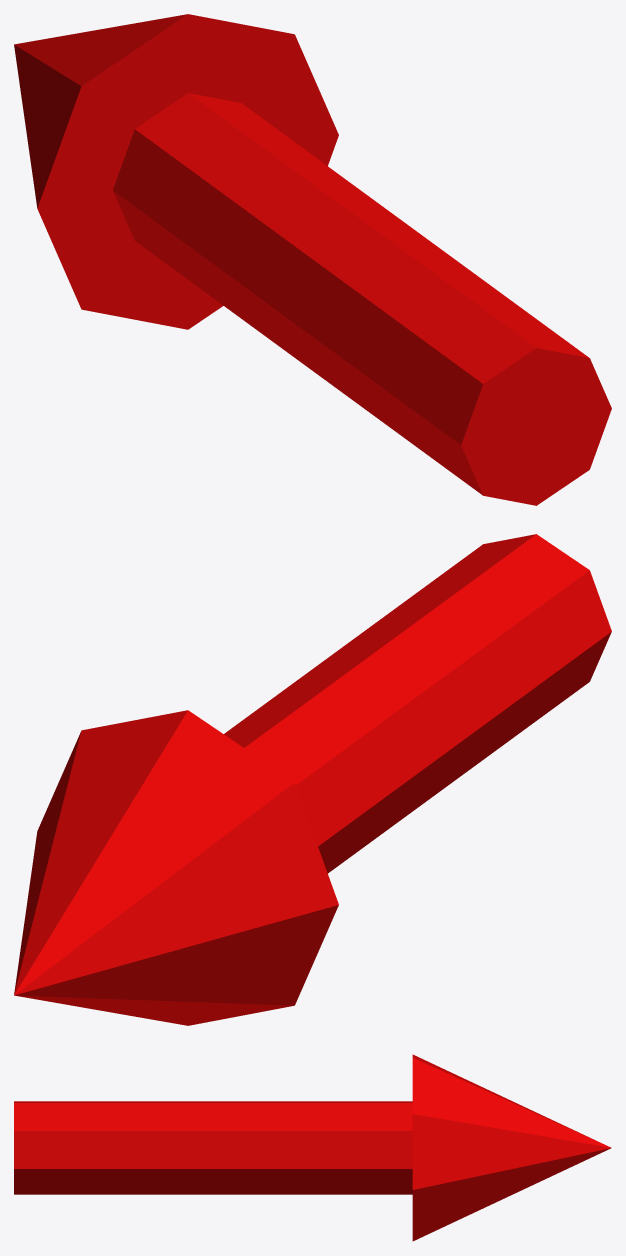
Rendered from Arrow.fbx.
The picture shows the model from 3 angles, top to bottom: view 1: azimuth 30°, elevation 25°; view 2: azimuth 150°, elevation 25°; view 3: azimuth 270°, elevation 25°; orthographic projection. The views are drawn at different scales.
Parts seen in each view (by area): view 1: Arrow; view 2: Arrow; view 3: Arrow.
Boxes of the visible parts, x1,y1,x2,y2 form: Arrow: (14,14,611,505); Arrow: (14,534,611,1025); Arrow: (14,1054,611,1241).
Size of the model in its own units: 0.1 by 0.1 by 0.3.
